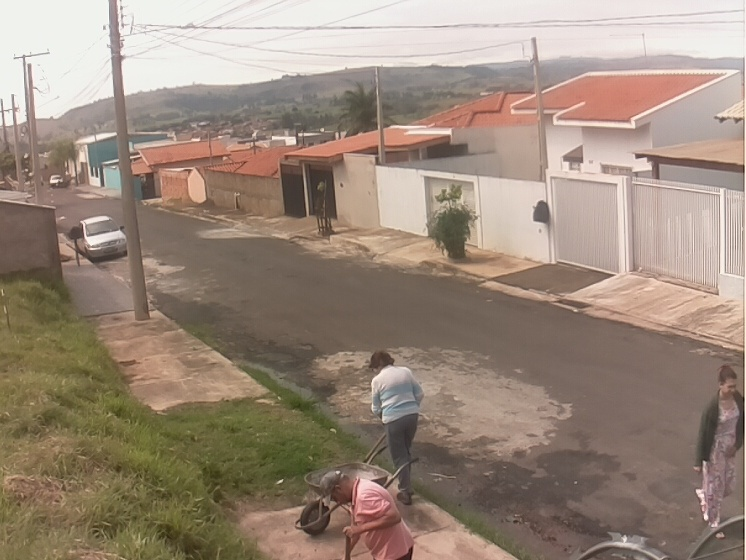person: (694, 364, 746, 538), (319, 469, 414, 560), (368, 349, 423, 505)
